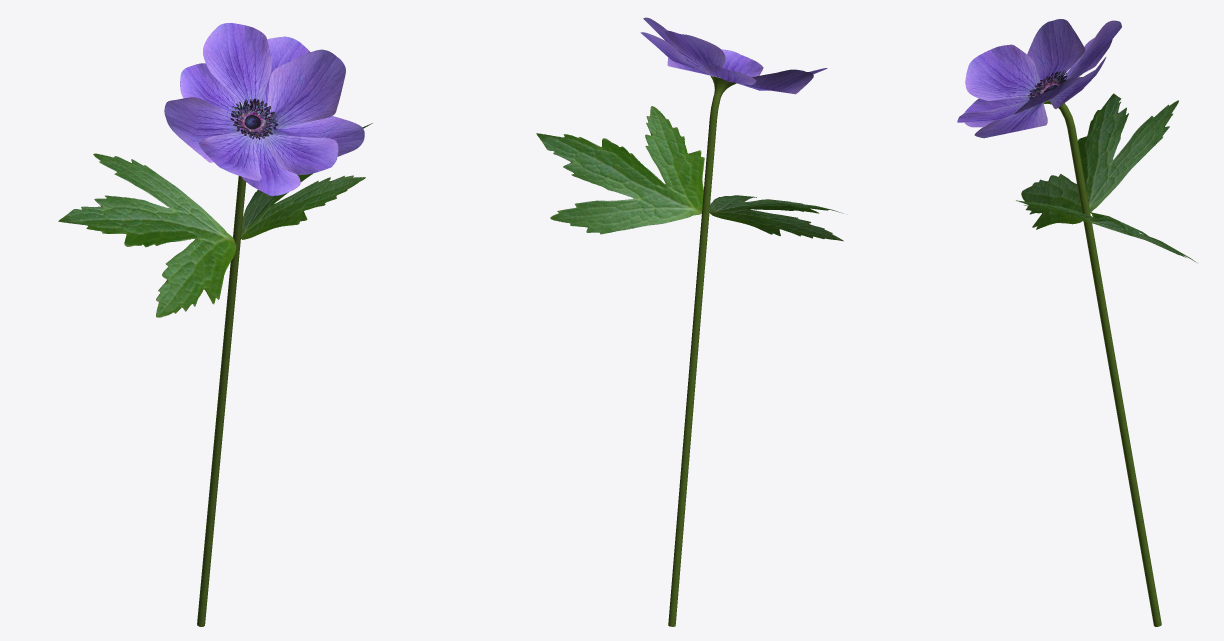
The picture shows the model from 3 angles, left to right: view 1: azimuth 30°, elevation 25°; view 2: azimuth 150°, elevation 25°; view 3: azimuth 270°, elevation 25°; orthographic projection. The views are drawn at different scales.
Parts seen in each view (by area): view 1: Cylinder; view 2: Cylinder; view 3: Cylinder.
Boxes of the visible parts, x1,y1,x2,y2 form: Cylinder: [58, 23, 372, 626]; Cylinder: [536, 17, 843, 626]; Cylinder: [957, 19, 1196, 626].
Size of the model in its own units: 1060 by 1652 by 638.
Materials: 1 (1 with a texture image).
